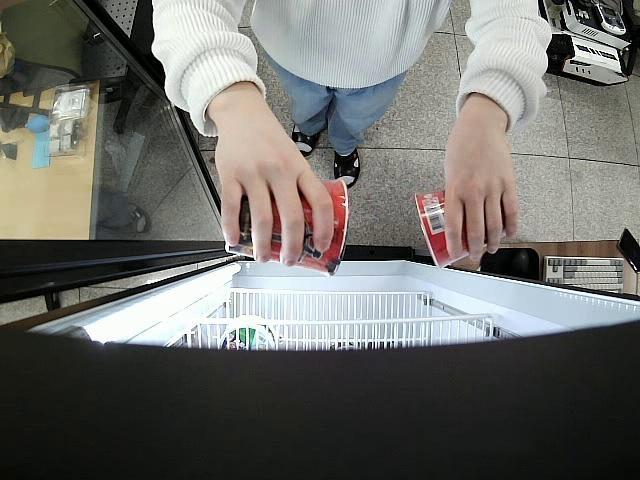02_shinRamen_S: (224, 177, 350, 280), (413, 186, 488, 270)
